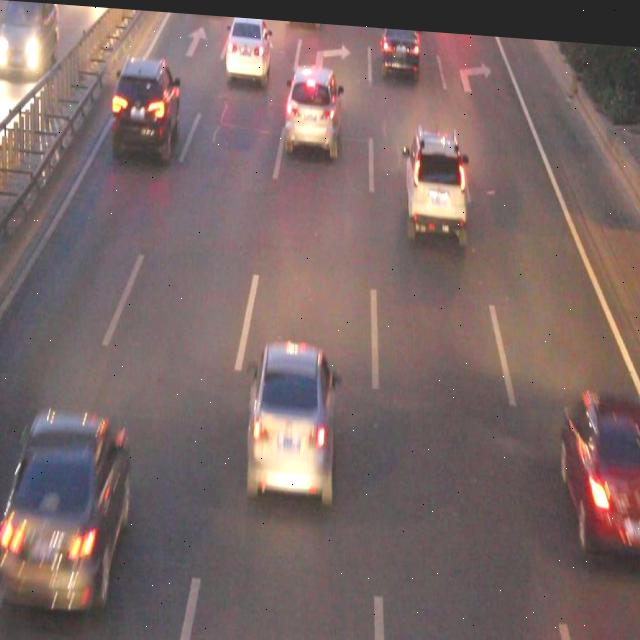car: (5, 413, 128, 604), (248, 337, 332, 493), (562, 381, 640, 540), (114, 56, 178, 150), (406, 126, 464, 228), (286, 60, 338, 146), (226, 13, 268, 74), (381, 22, 416, 66)
